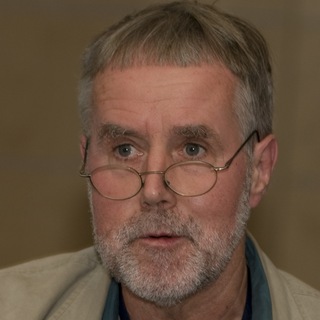eye: (174, 138, 215, 164), (103, 138, 145, 163)
